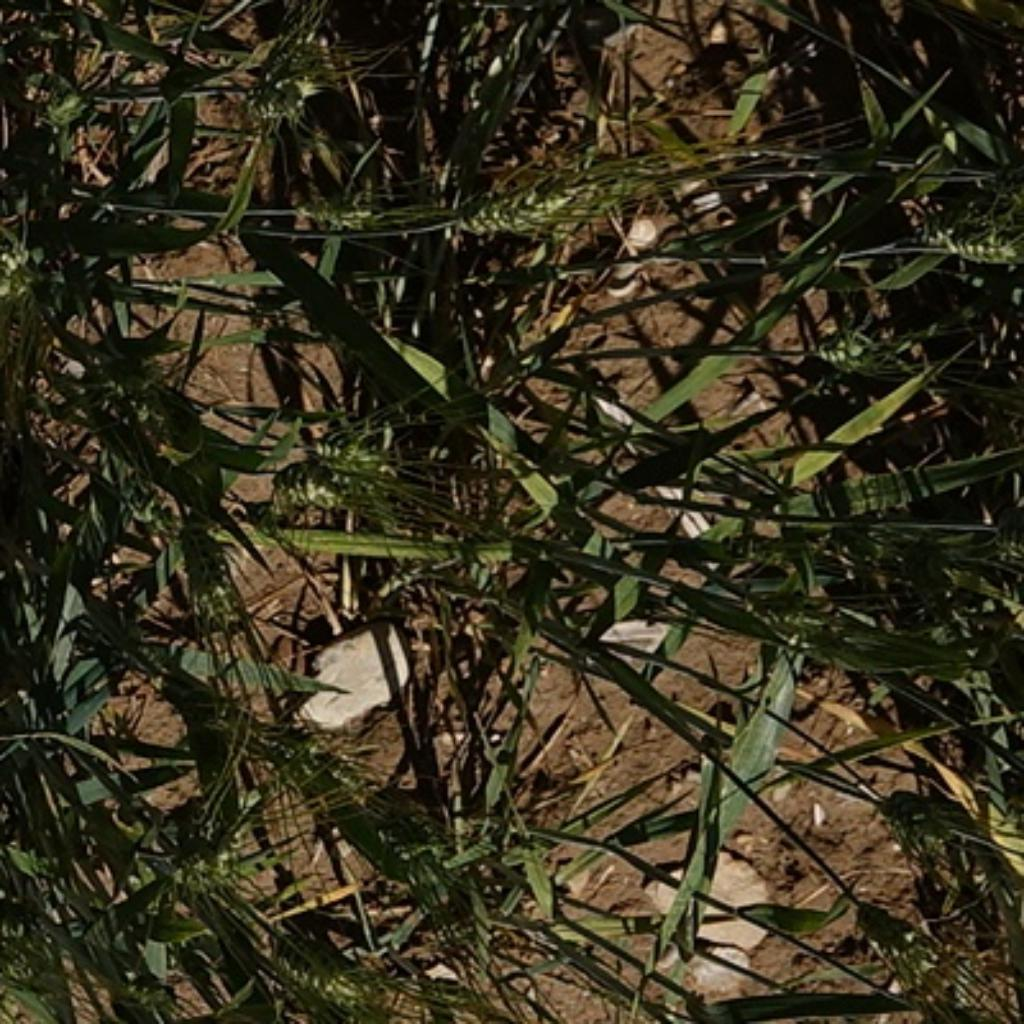0-0: (69, 314, 209, 448), (250, 924, 427, 1021), (209, 15, 345, 133), (184, 40, 314, 158), (862, 770, 1003, 870), (143, 793, 261, 906), (444, 170, 599, 248), (898, 180, 1020, 278), (844, 894, 960, 997), (312, 409, 440, 501), (163, 506, 248, 642), (363, 783, 460, 891), (796, 299, 916, 384), (266, 463, 401, 522), (1, 228, 74, 320), (289, 163, 384, 227), (30, 84, 110, 148)
